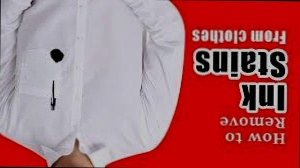ink: (50, 49, 64, 62)
